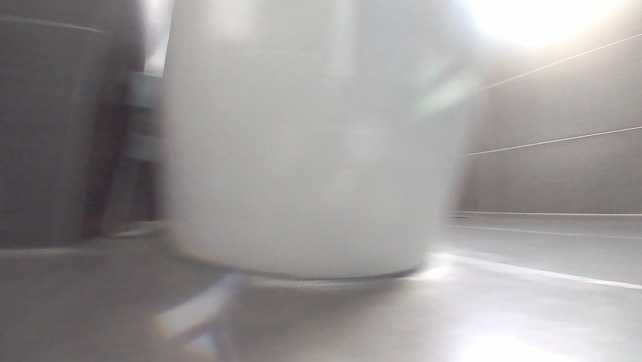toilet: (151, 0, 493, 280)
